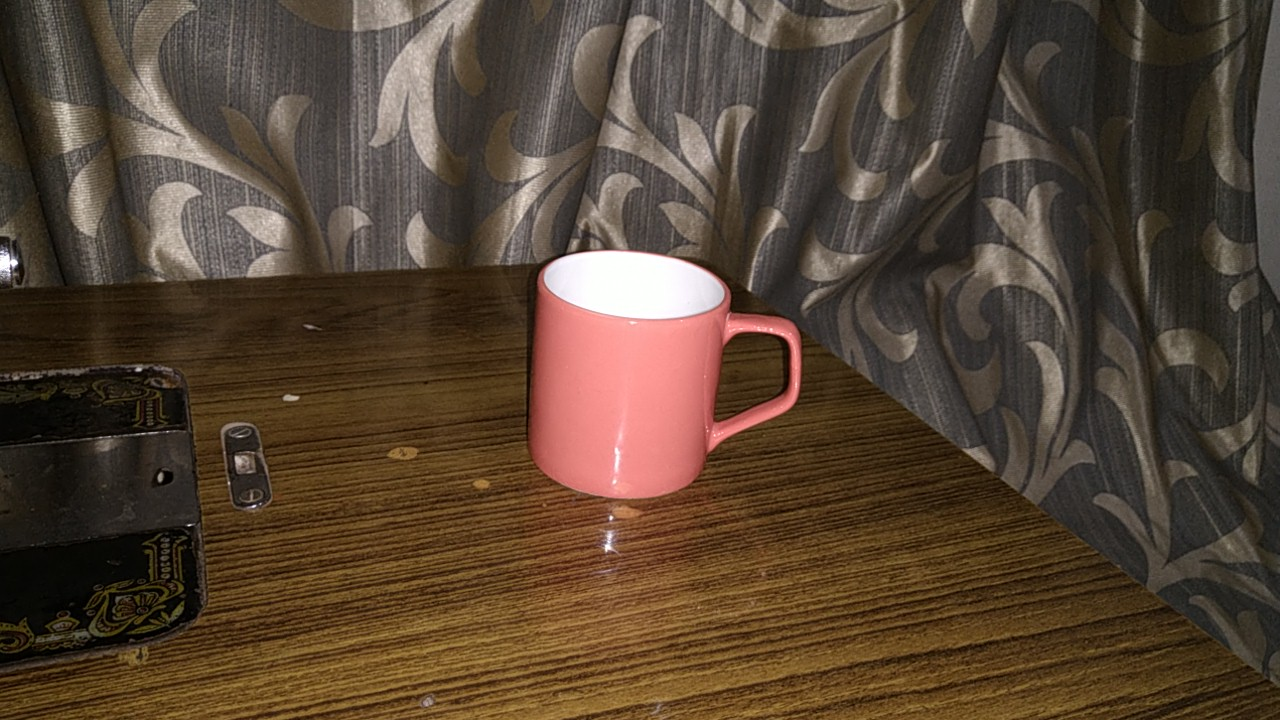cup: (518, 242, 810, 508)
